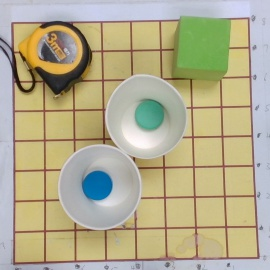cup_blue: (58, 144, 143, 230)
cup_green: (103, 74, 189, 160)
